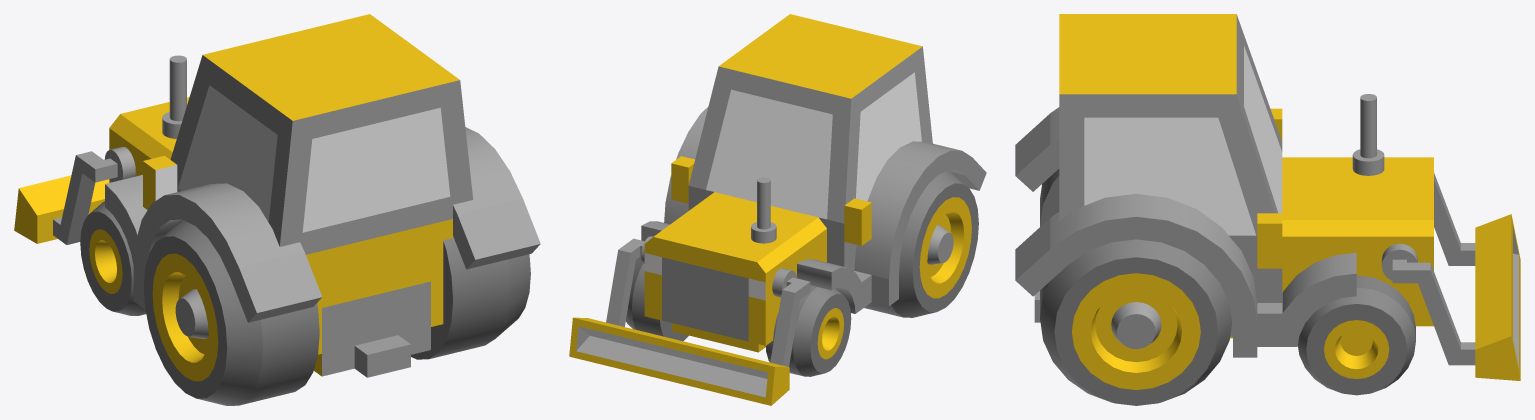
The model's file is tractorShovel.glb.
3 renders of one model, left to right at view 1: azimuth 30°, elevation 25°; view 2: azimuth 150°, elevation 25°; view 3: azimuth 270°, elevation 25°, orthographic. The views are drawn at different scales.
Visible parts, largest first — view 1: body, skirts, wheel_backLeft, wheel_backRight, shovel, wheel_frontLeft; view 2: body, shovel, skirts, wheel_backLeft, wheel_frontLeft, wheel_frontRight; view 3: body, wheel_backRight, skirts, shovel, wheel_frontRight, wheel_backLeft.
Boxes of the visible parts, x1,y1,x2,y2 form: body: [109, 14, 473, 377]; skirts: [105, 127, 540, 322]; wheel_backLeft: [143, 220, 319, 405]; wheel_backRight: [411, 237, 530, 359]; shovel: [14, 147, 135, 244]; wheel_frontLeft: [80, 201, 146, 315]; body: [644, 14, 932, 352]; shovel: [569, 236, 810, 405]; skirts: [641, 107, 986, 313]; wheel_backLeft: [864, 170, 978, 317]; wheel_frontLeft: [765, 285, 851, 376]; wheel_frontRight: [626, 256, 688, 341]; body: [1034, 14, 1433, 338]; wheel_backRight: [1040, 239, 1232, 405]; skirts: [1015, 107, 1356, 357]; shovel: [1381, 173, 1520, 380]; wheel_frontRight: [1298, 275, 1415, 395]; wheel_backLeft: [1040, 169, 1059, 226].
Size of the model in its own units: 1.56 by 1.46 by 2.29.
